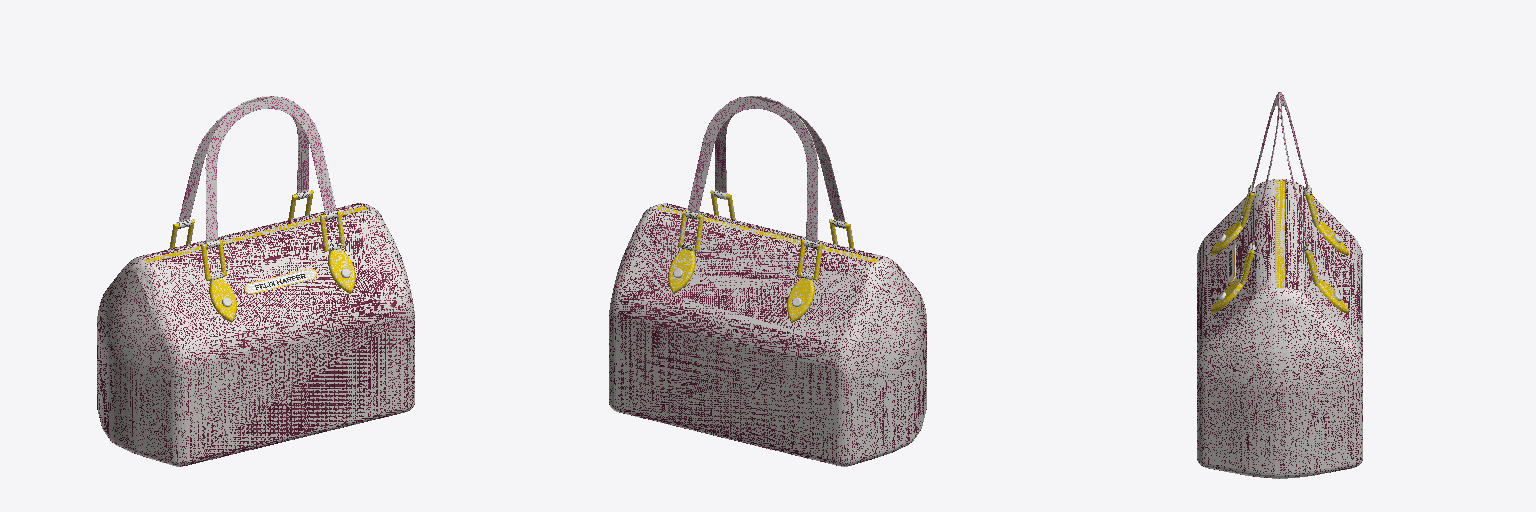
The picture shows the model from 3 angles: view 1: azimuth 30°, elevation 25°; view 2: azimuth 150°, elevation 25°; view 3: azimuth 270°, elevation 25°; orthographic projection.
Parts seen in each view (by area): view 1: mesh27_mesh27-geometry, mesh29_mesh29-geometry; view 2: mesh27_mesh27-geometry; view 3: mesh27_mesh27-geometry.
Part boxes in pixels (bbox=[...]): mesh27_mesh27-geometry: bbox=[97, 96, 414, 466]; mesh29_mesh29-geometry: bbox=[244, 268, 316, 294]; mesh27_mesh27-geometry: bbox=[609, 96, 926, 466]; mesh27_mesh27-geometry: bbox=[1197, 92, 1362, 478].
Bounding box in the file's own units: 0.6524 × 0.6842 × 0.3258.
9 materials, 1 textured.